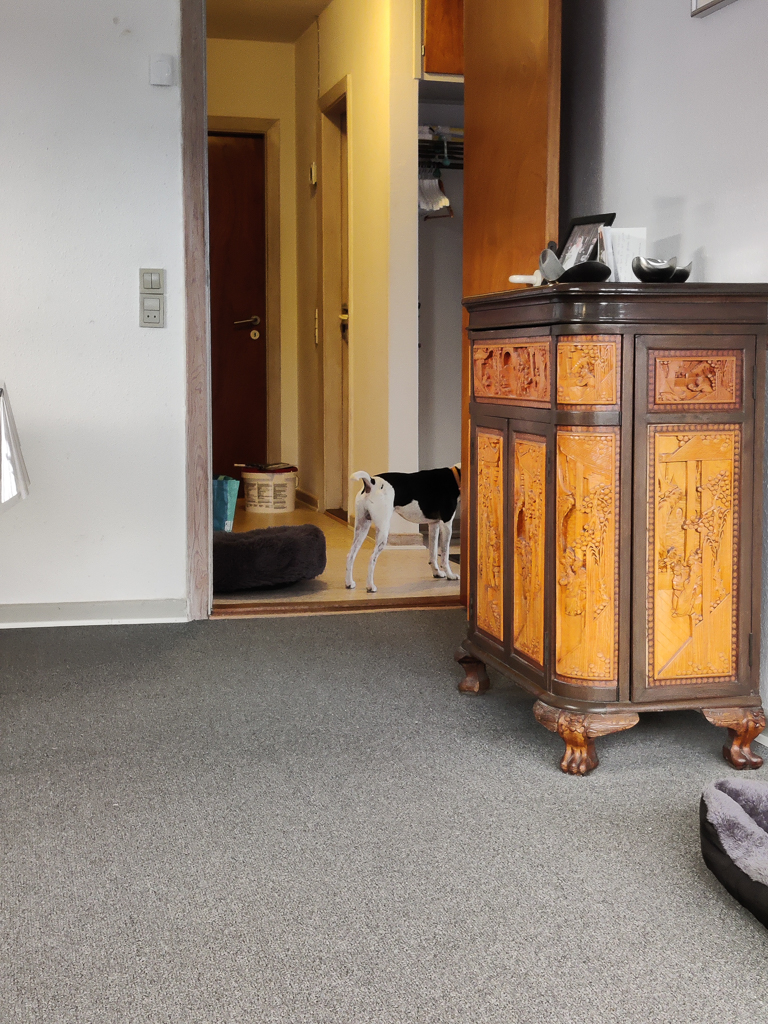Dog: (340, 454, 470, 596)
